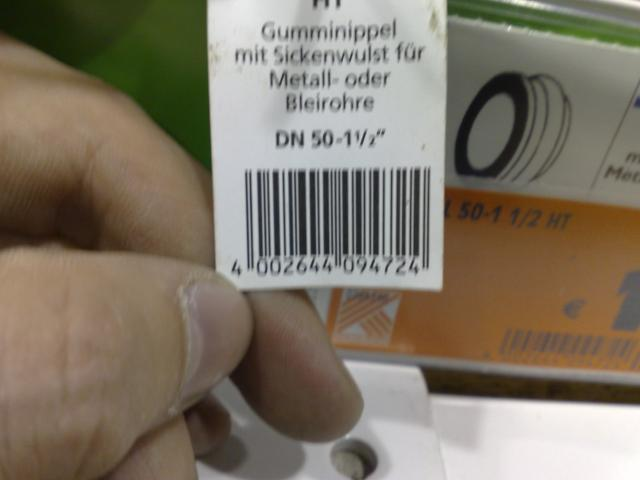Barcode: (214, 154, 444, 289)
